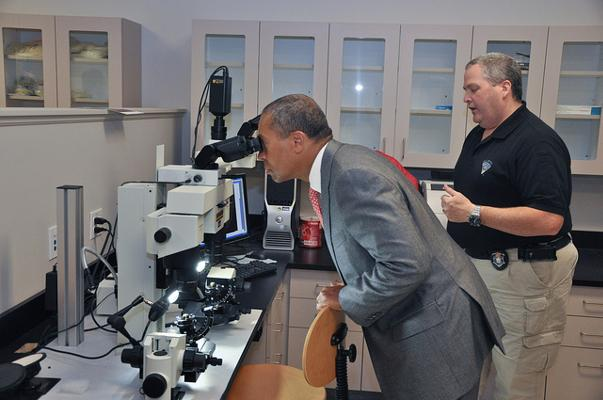person: (258, 93, 506, 400)
